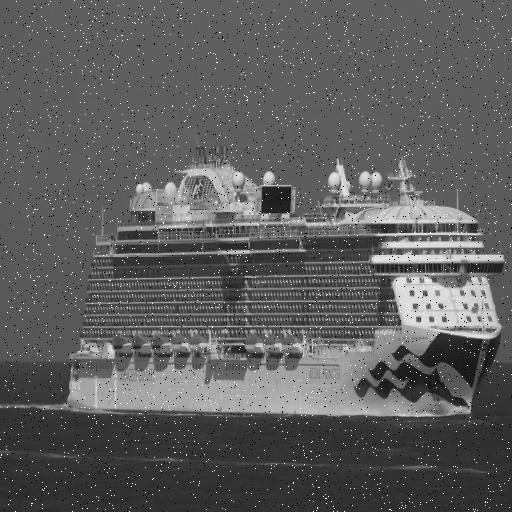cruises: (64, 142, 508, 428)
